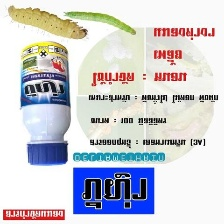insecticide: (17, 36, 72, 168)
